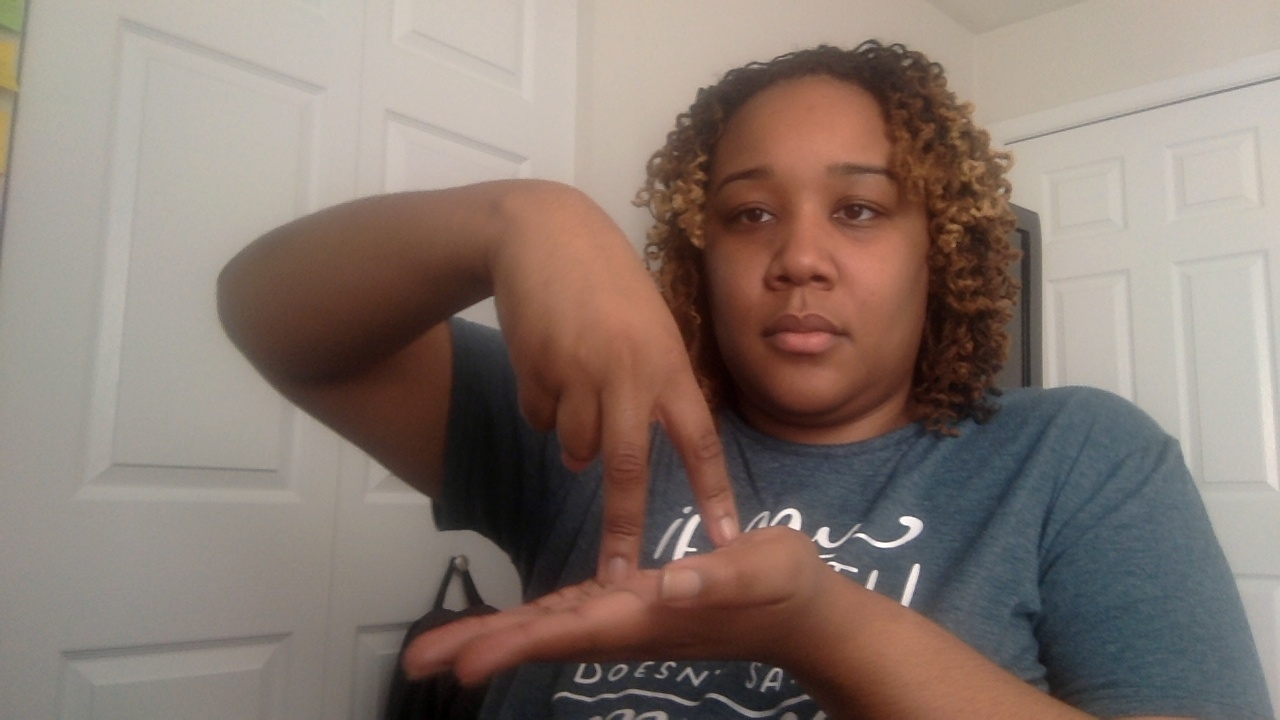fork: (383, 177, 809, 684)
